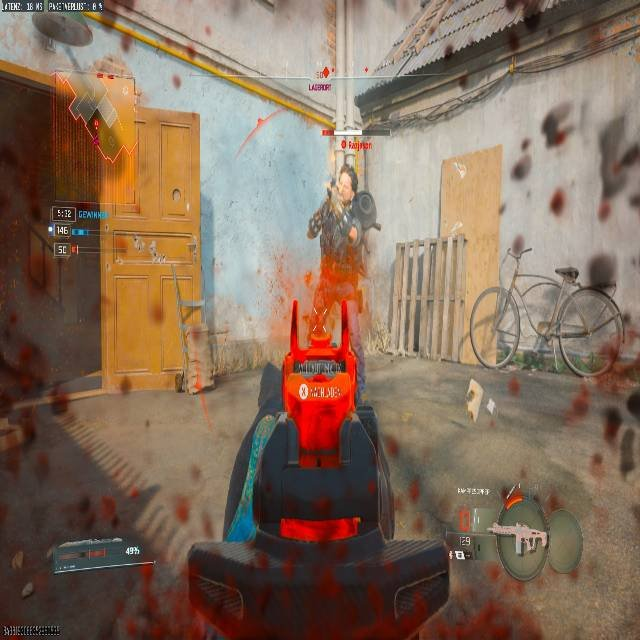head: (581, 250, 618, 297), (337, 163, 357, 201)
player: (306, 164, 383, 347)
